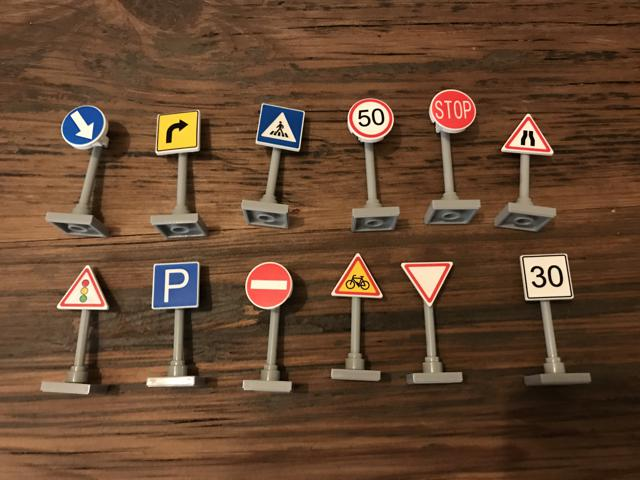fahrtrichtung rechts: (151, 107, 203, 154)
fußgängerüberweg: (254, 104, 305, 153)
lichtzeichenanlage: (57, 265, 111, 314)
parken: (149, 260, 203, 311)
radfahrer: (330, 252, 385, 300)
rechts halten: (61, 104, 107, 148)
stop: (429, 87, 478, 136)
tempolimit 30: (519, 252, 574, 300)
tempolimit 50: (349, 98, 395, 142)
verbot der einfahrt: (244, 260, 291, 310)
verengte fahrbahn: (500, 114, 553, 157)
vorfahrt gewähren: (400, 260, 456, 306)
